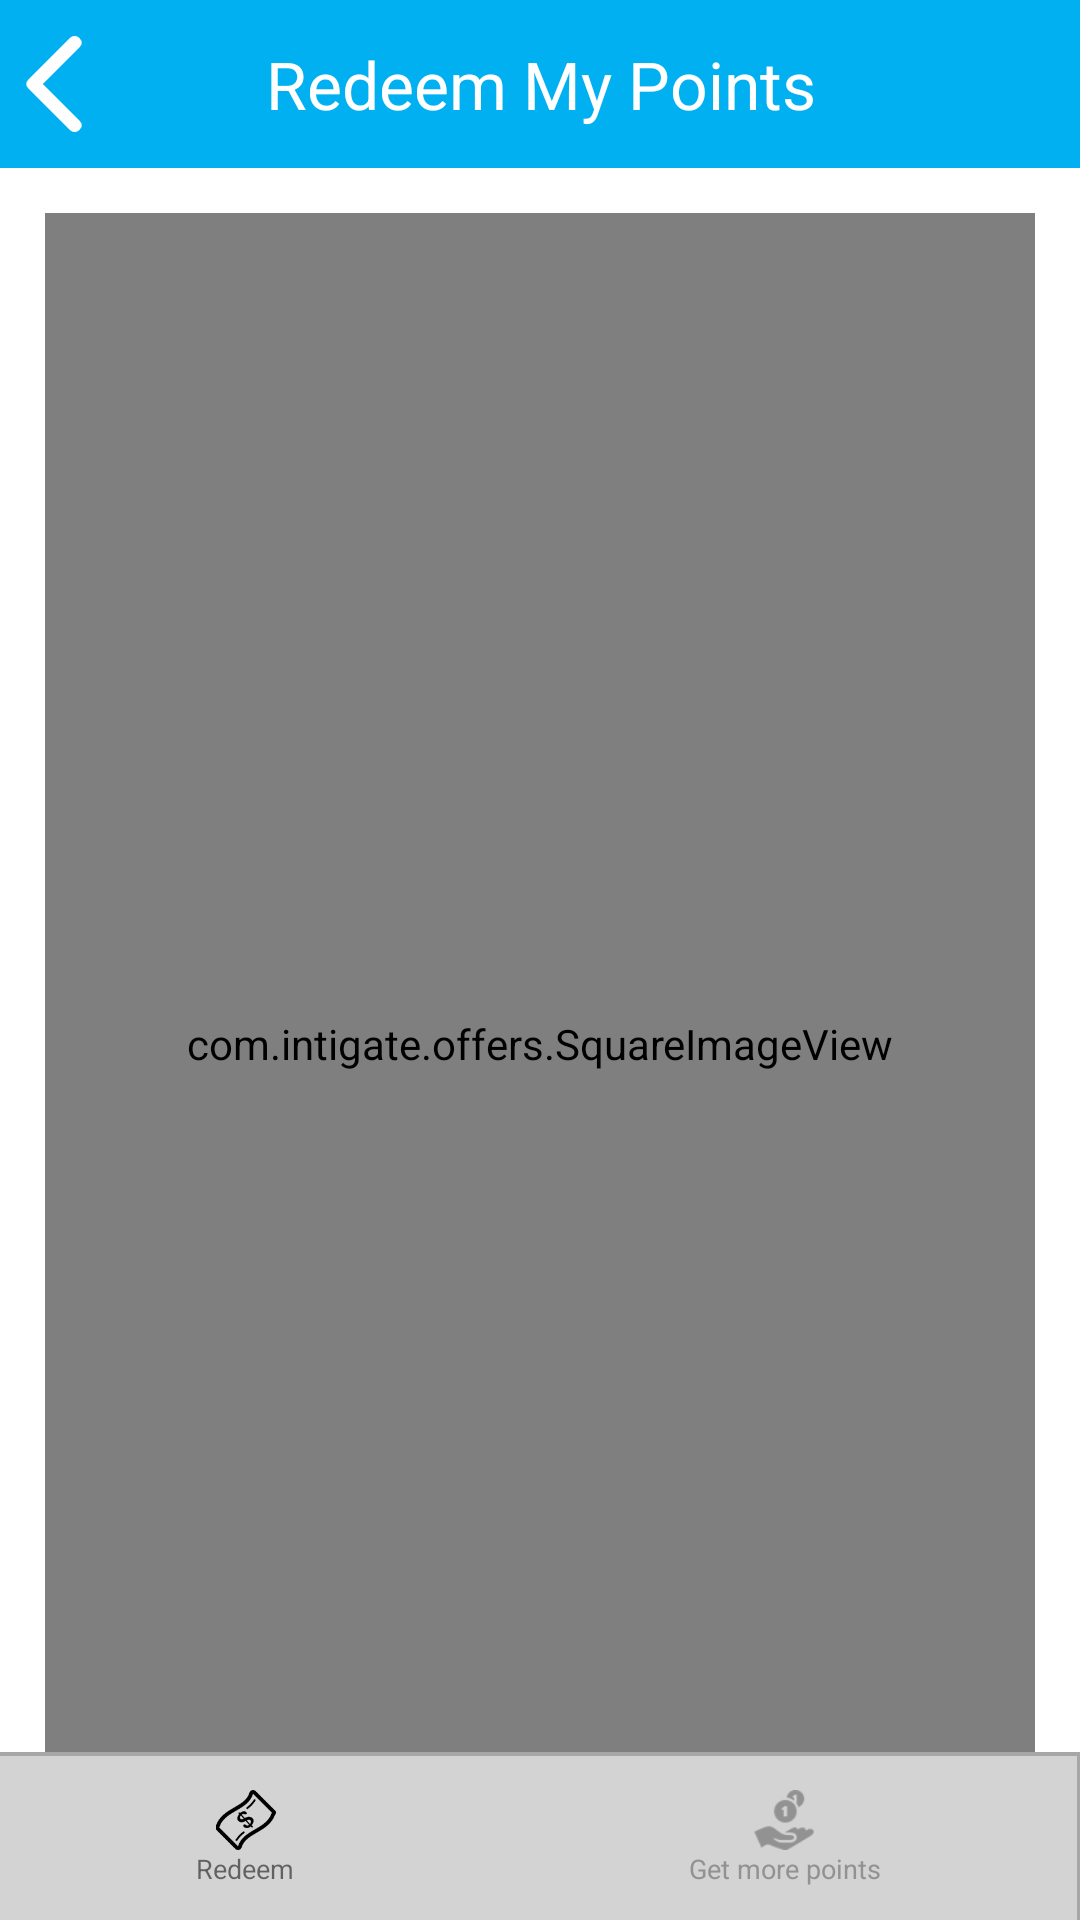

Locate icon controls on the screen. Image size 1080px×1920px, boxes as (x1, y1, x2, y2).
back: (26, 36, 82, 132)
